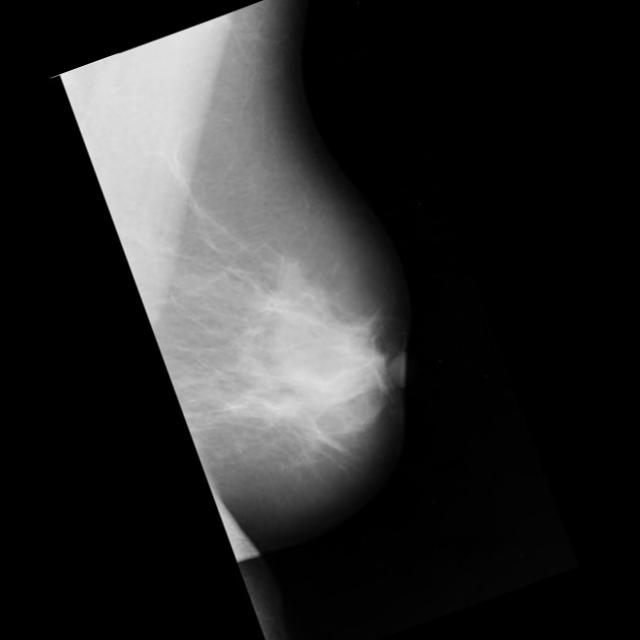SPIC: (259, 287, 289, 317)
